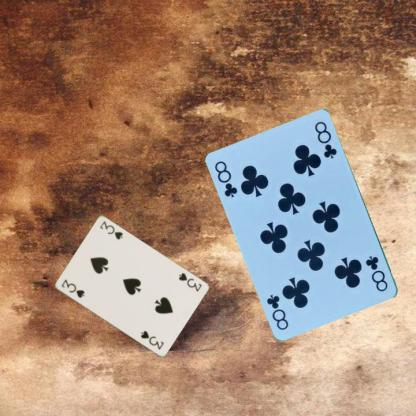3s: (58, 277, 86, 299), (176, 270, 202, 293)
8c: (212, 158, 239, 199), (363, 253, 389, 293)
